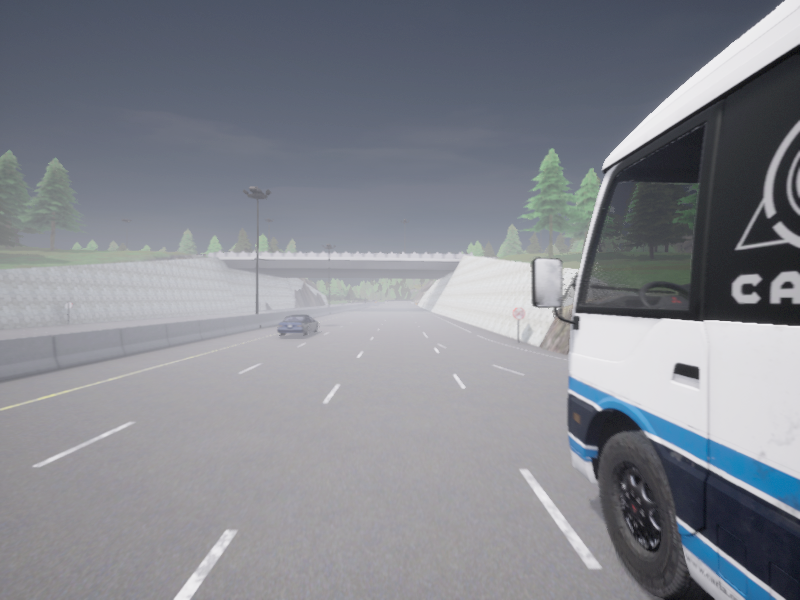vehicle: (532, 0, 799, 599), (277, 314, 319, 335)
